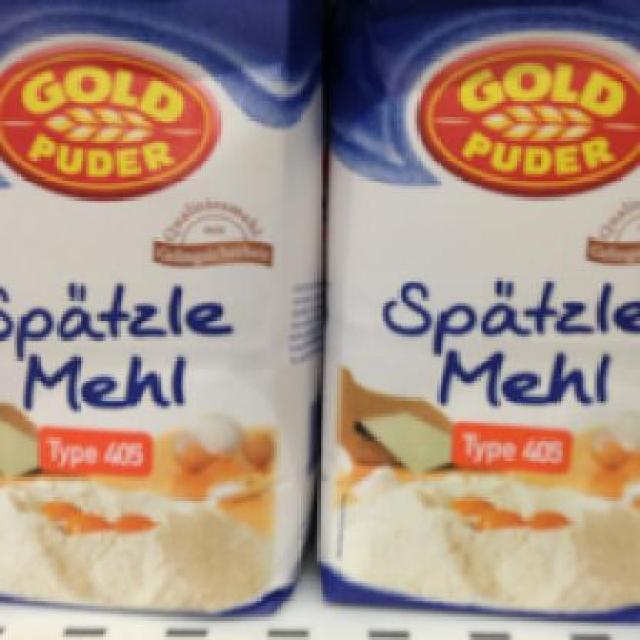Flour: (314, 0, 637, 623), (0, 0, 320, 620)
